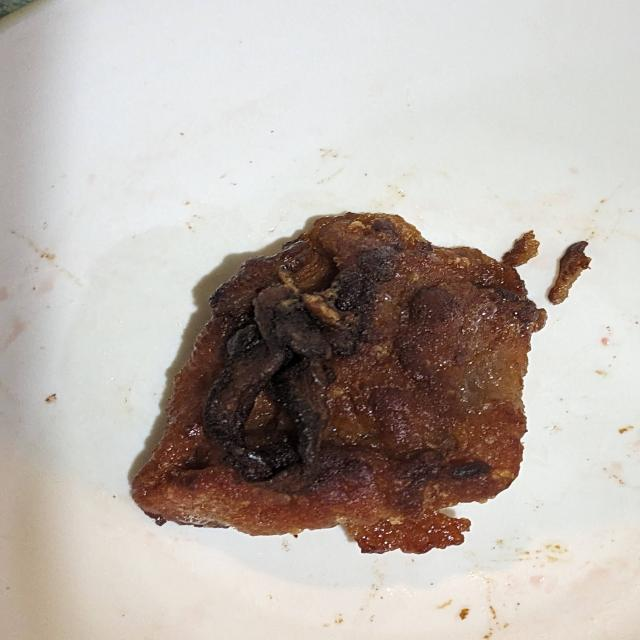overcooked pork: (114, 205, 559, 564)
